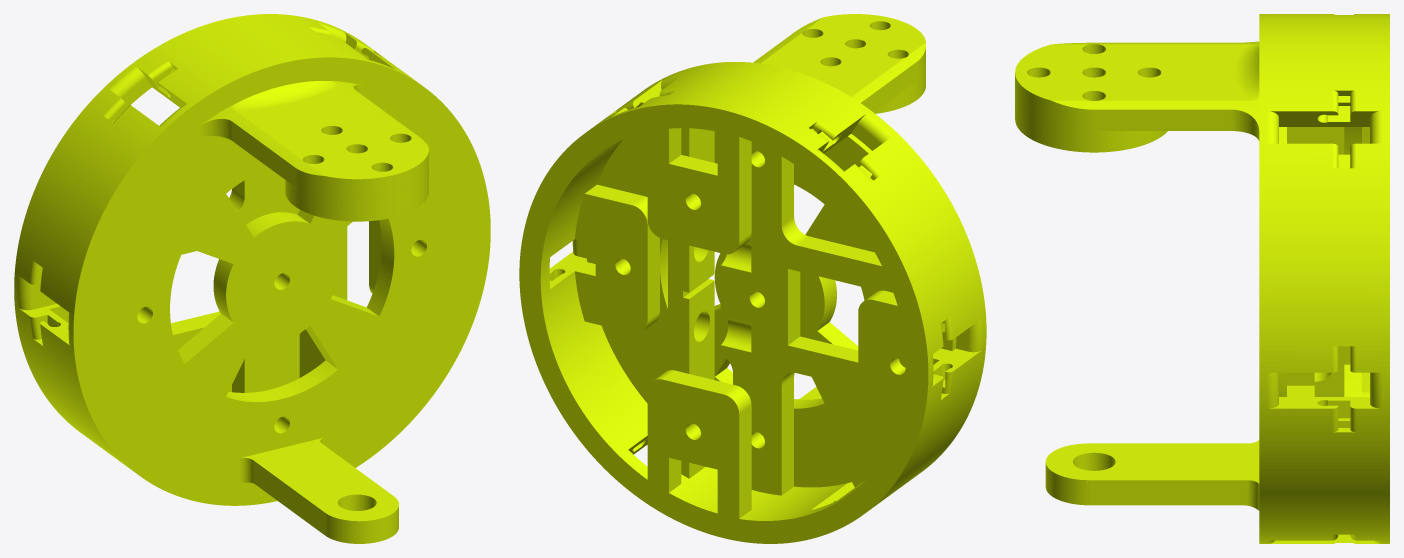
The model's file is top_module.dae.
3 views of the same model, side by side, from view 1: azimuth 30°, elevation 25°; view 2: azimuth 150°, elevation 25°; view 3: azimuth 270°, elevation 25° (orthographic). The views are drawn at different scales.
Visible parts, largest first — view 1: Top_Module; view 2: Top_Module; view 3: Top_Module.
Part boxes in pixels (bbox=[...]): Top_Module: bbox=[14, 14, 490, 543]; Top_Module: bbox=[519, 14, 986, 543]; Top_Module: bbox=[1015, 14, 1389, 543].
Size of the model in its own units: 0.067 by 0.0474 by 0.067.
